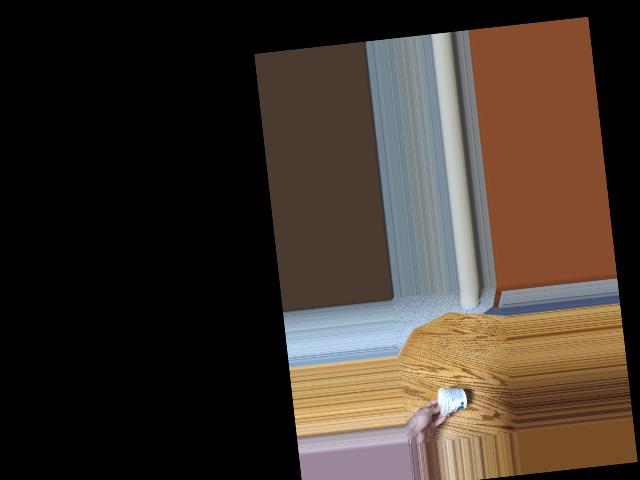cotage: (431, 383, 463, 414)
